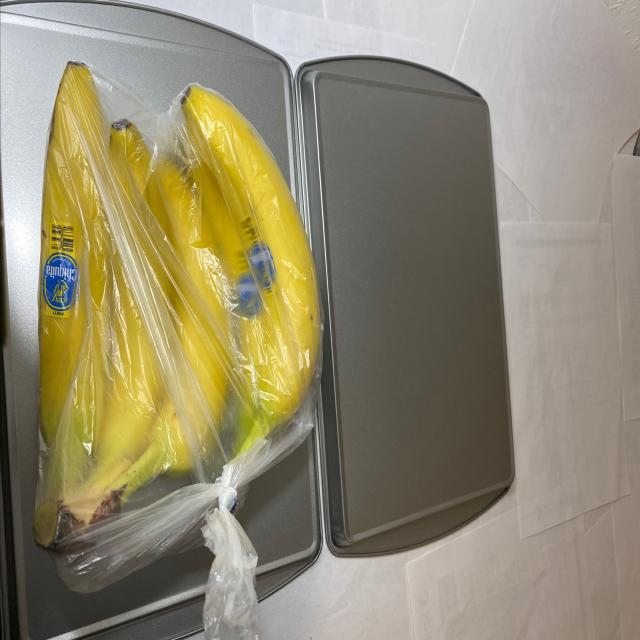banana: (26, 59, 326, 590)
